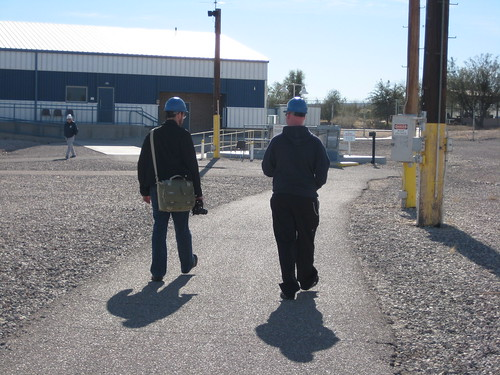person hardhat: (261, 96, 334, 301), (132, 96, 205, 286), (59, 112, 81, 163)
